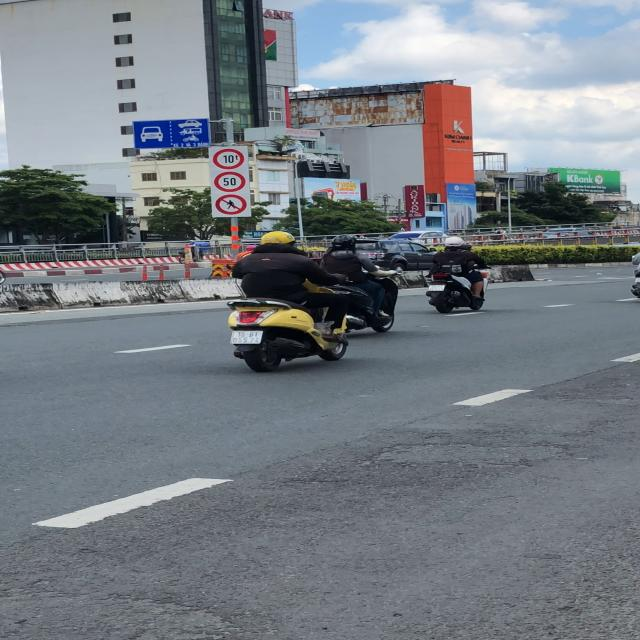Bien bao toc do toi da cho phep: (213, 170, 247, 193)
